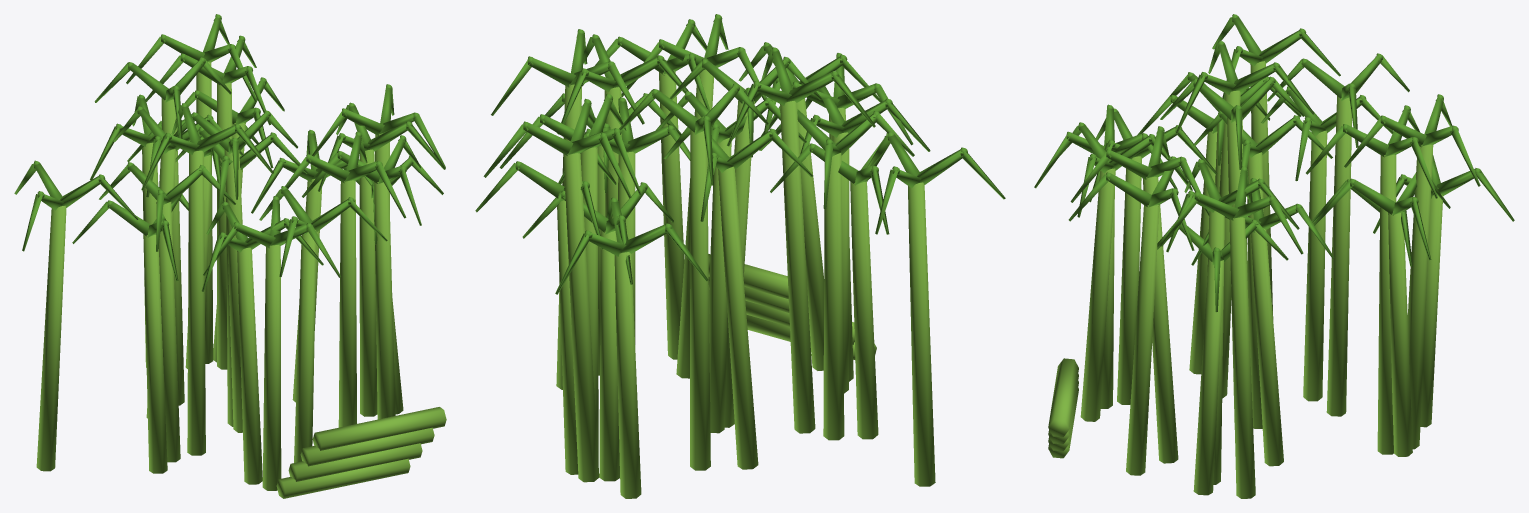
File: resource_sugar.fbx
The picture shows the model from 3 angles, left to right: view 1: azimuth 30°, elevation 25°; view 2: azimuth 150°, elevation 25°; view 3: azimuth 270°, elevation 25°; orthographic projection. The views are drawn at different scales.
Visible parts, largest first — view 1: resource_sugar_cane_00, resource_sugar_canel_01; view 2: resource_sugar_cane_00, resource_sugar_canel_01; view 3: resource_sugar_cane_00, resource_sugar_canel_01.
Boxes of the visible parts, x1,y1,x2,y2 form: resource_sugar_cane_00: (36, 62, 446, 498); resource_sugar_canel_01: (14, 14, 445, 291); resource_sugar_cane_00: (556, 69, 935, 498); resource_sugar_canel_01: (475, 14, 1005, 294); resource_sugar_cane_00: (1048, 61, 1443, 498); resource_sugar_canel_01: (1034, 14, 1514, 312).
Size of the model in its own units: 105 by 79.14 by 99.28.
